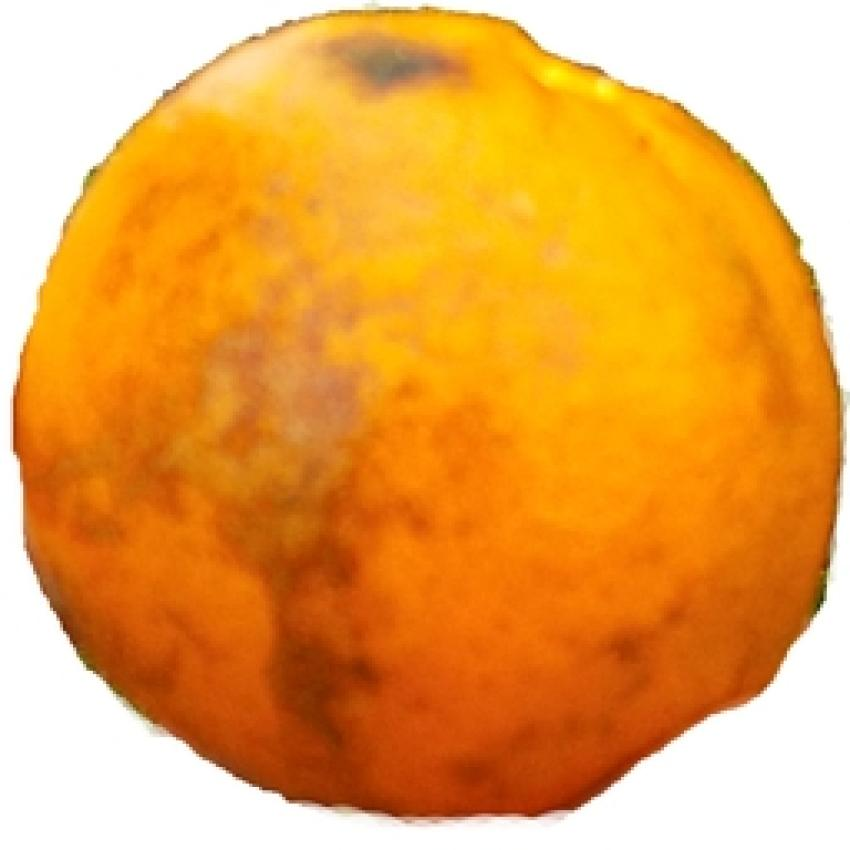Mal estado: (16, 5, 846, 818)
